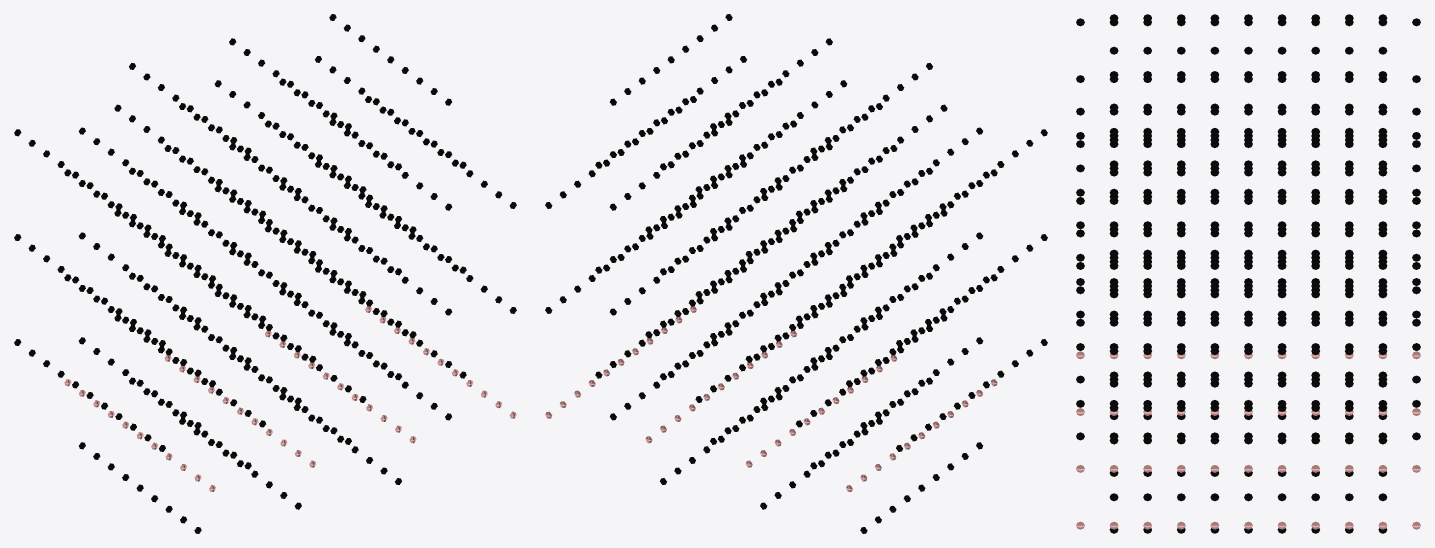
File: matchgraph_d=7_rounds=10_p=0.001.gltf
3 renders of one model, left to right at view 1: azimuth 30°, elevation 25°; view 2: azimuth 150°, elevation 25°; view 3: azimuth 270°, elevation 25°, orthographic. The views are drawn at different scales.
Bounding box in the file's own units: 42.8 × 42.8 × 30.8.
